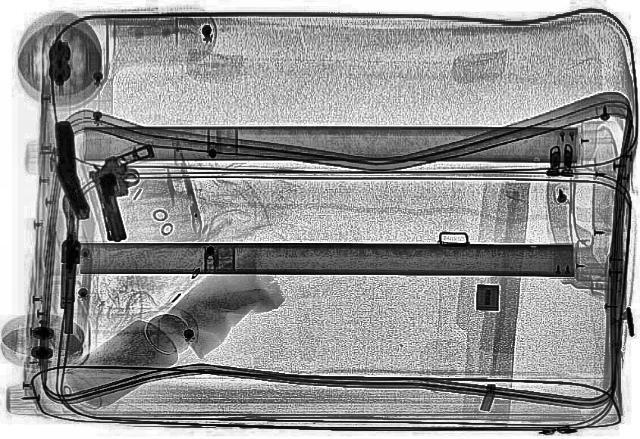Gun: (76, 142, 182, 243), (37, 116, 94, 222), (56, 195, 80, 336)
